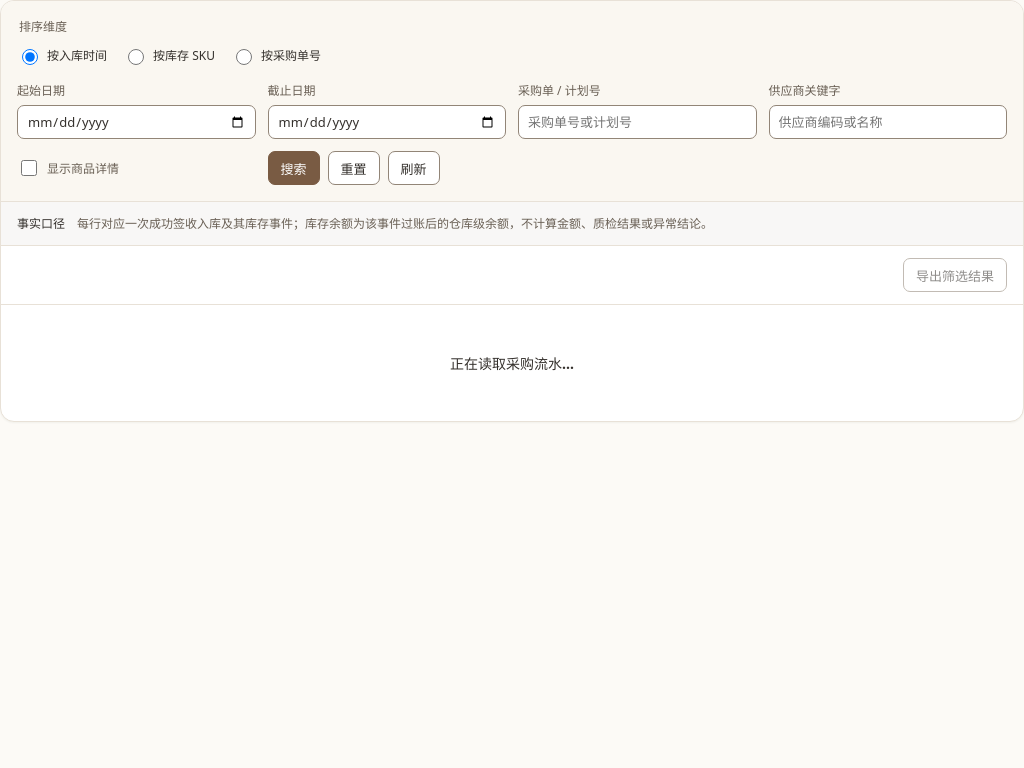
Scenario: procurement ledger page › rejects an inverted receipt date range before navigation
Type "2026-08-02" into the date field labelled "起始日期" at (136,122), box x1=17 y1=105 x2=256 y2=139
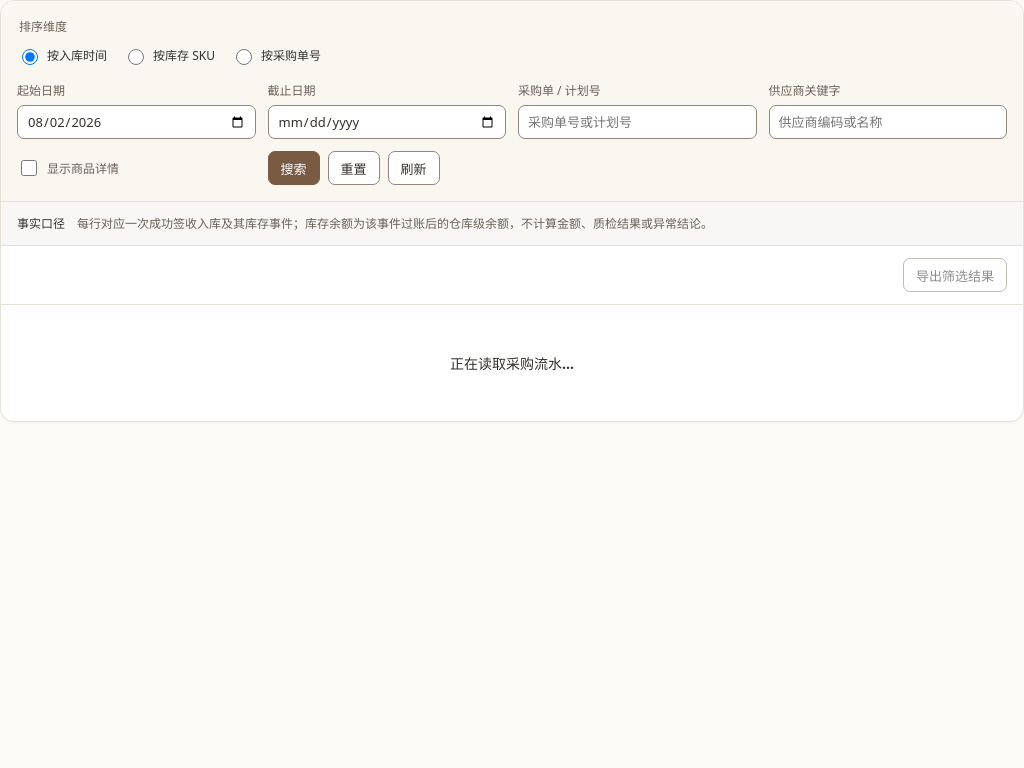
Type "2026-08-01" into the date field labelled "截止日期" at (387,122), box x1=268 y1=105 x2=506 y2=139
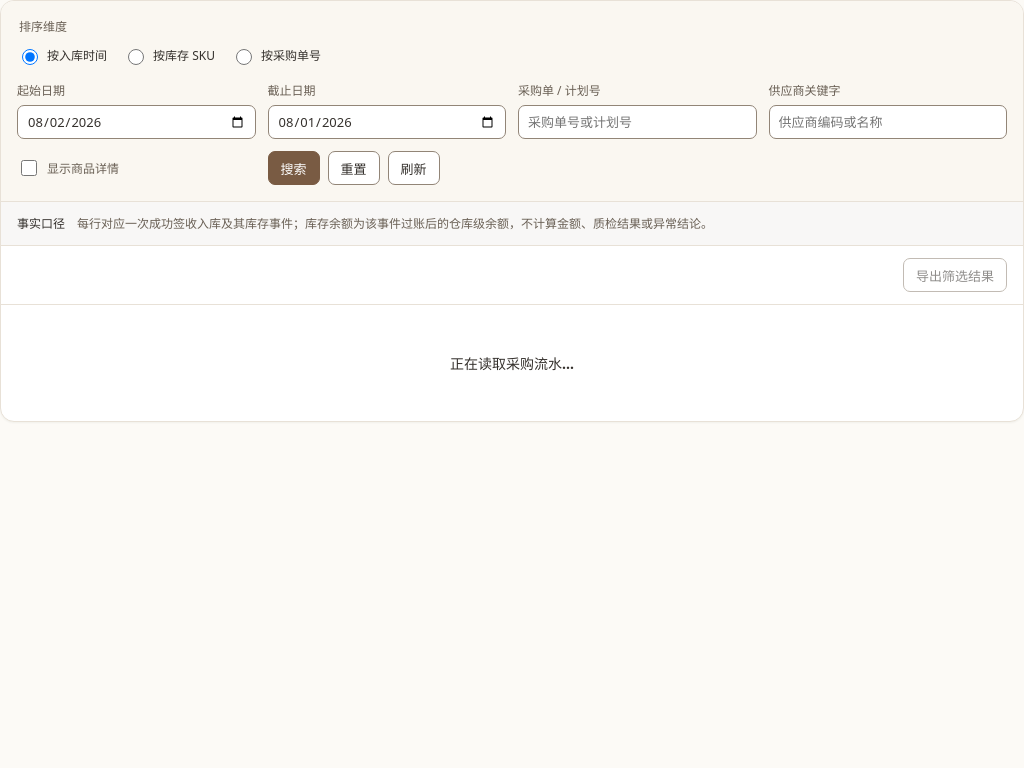
Click the button "搜索" at (294,168), box x1=268 y1=151 x2=320 y2=185
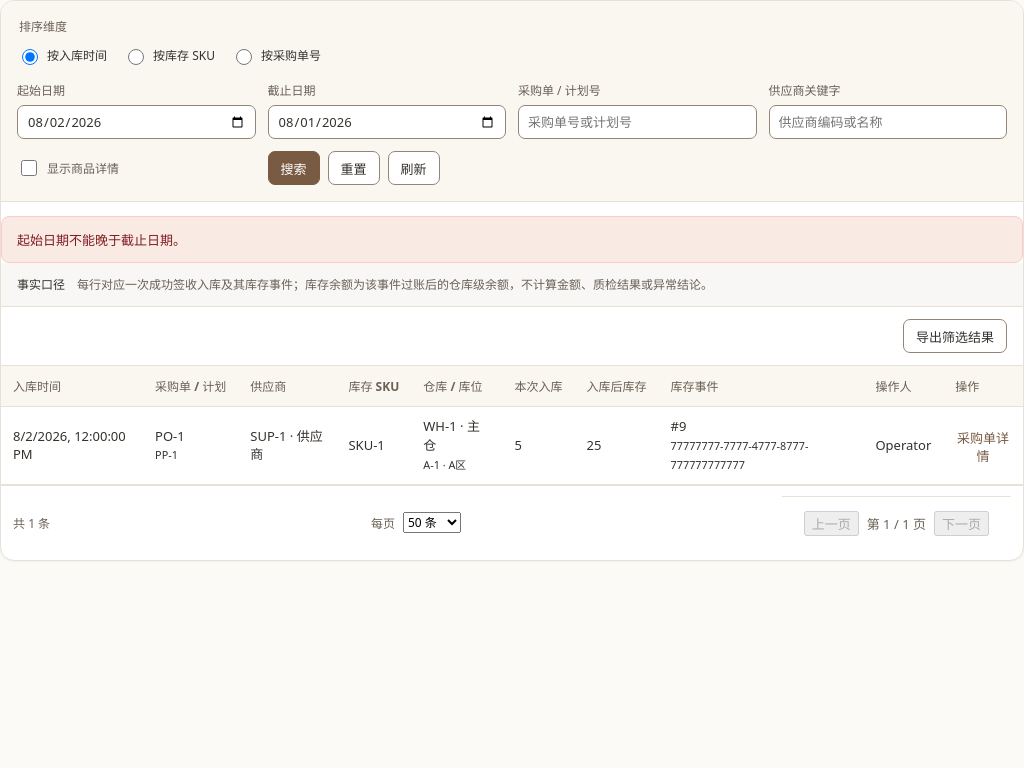
Now the message shows "起始日期不能晚于截止日期", box x1=17 y1=231 x2=186 y2=249
